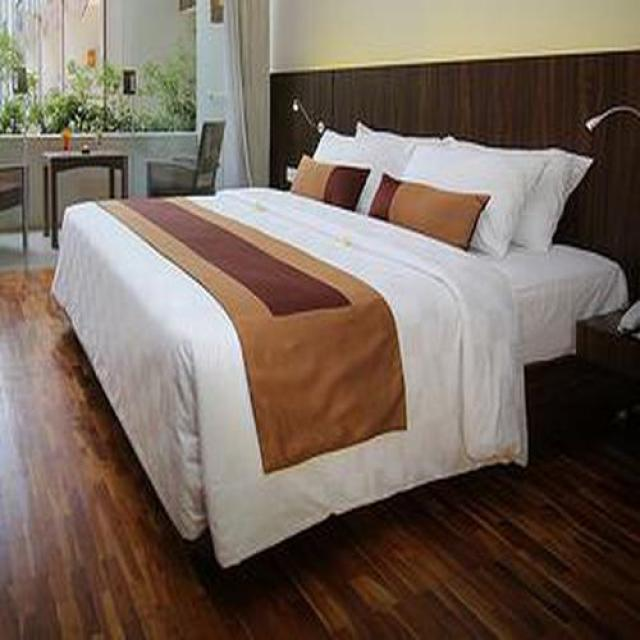bed: (51, 50, 640, 571)
